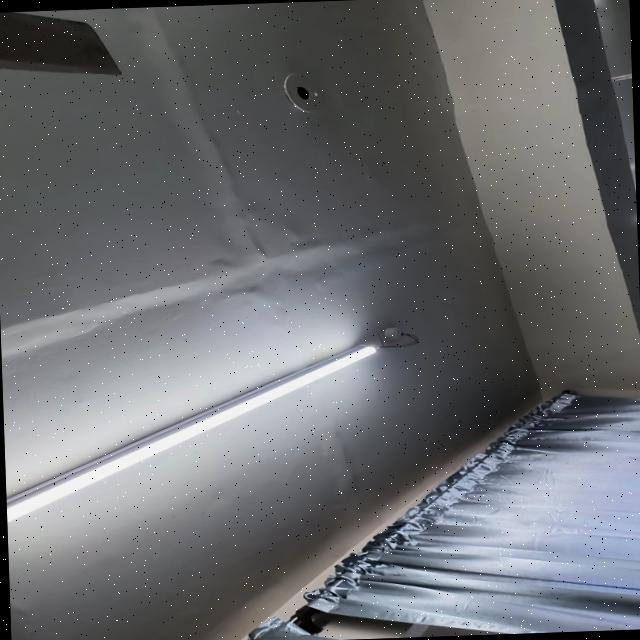Light: (6, 343, 380, 521)
